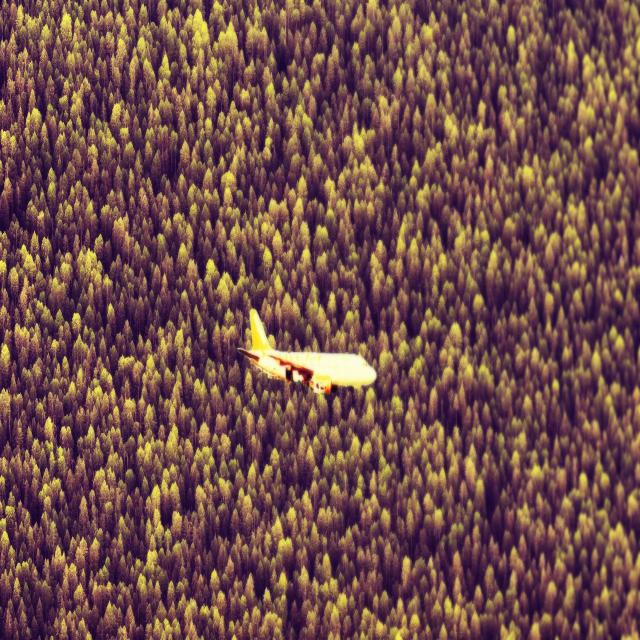airplane: (236, 307, 377, 395)
